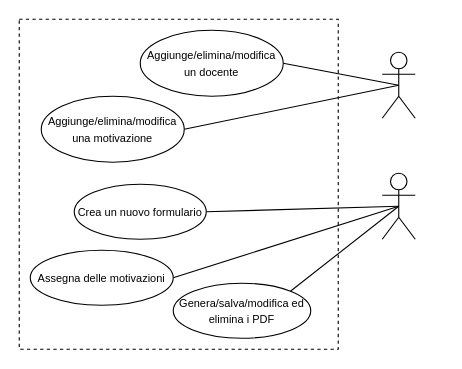
The diagram is 462 pixels wide and 369 high, and some of its shapes have lost their labels. Each missing label, with the centre of its shape:
Amministratore: the point at 398,84
Docente: the point at 398,205
